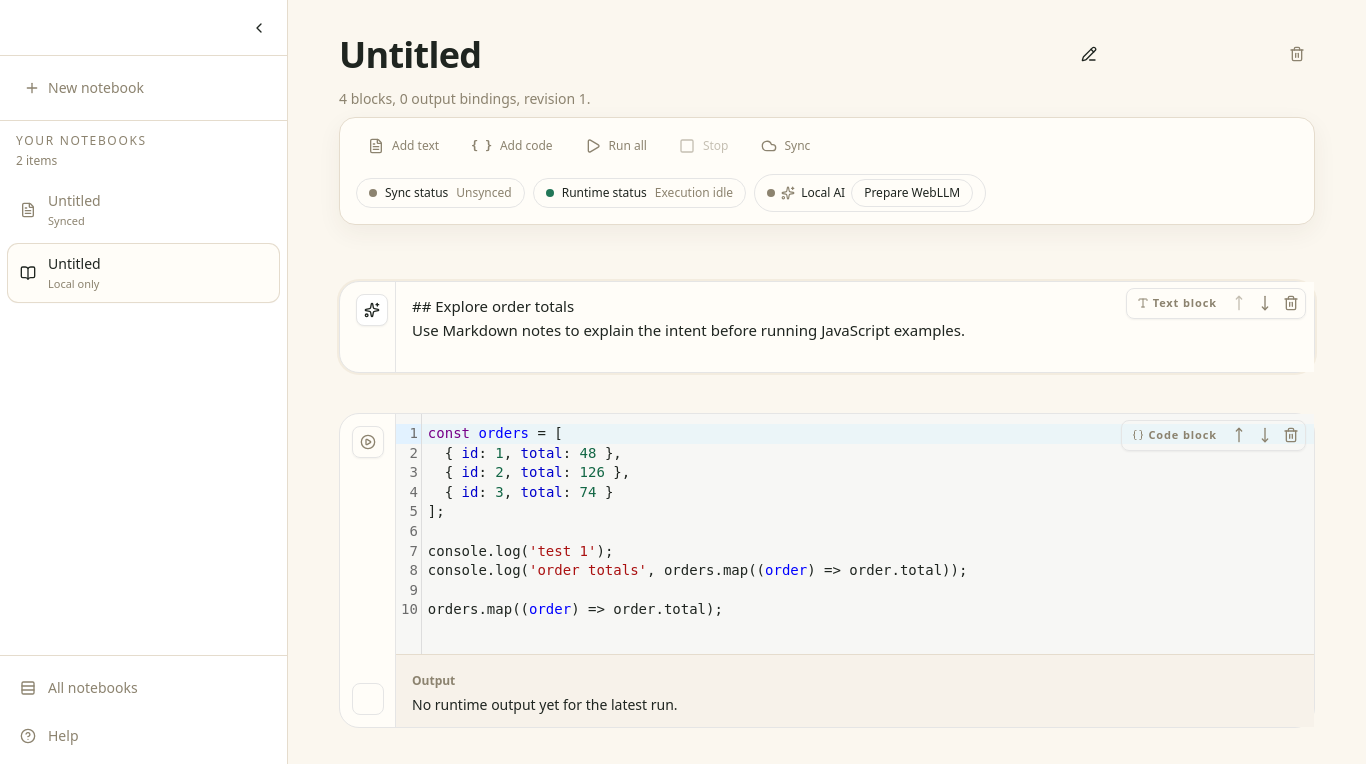
NotebookEditorPage › allows explicit local generation for an unsynced local notebook draft
Expected: the element named "Local AI status" shows "Local AI", [801,184,845,201]
Click the button "Prepare WebLLM": (912, 193) [851,179,973,207]
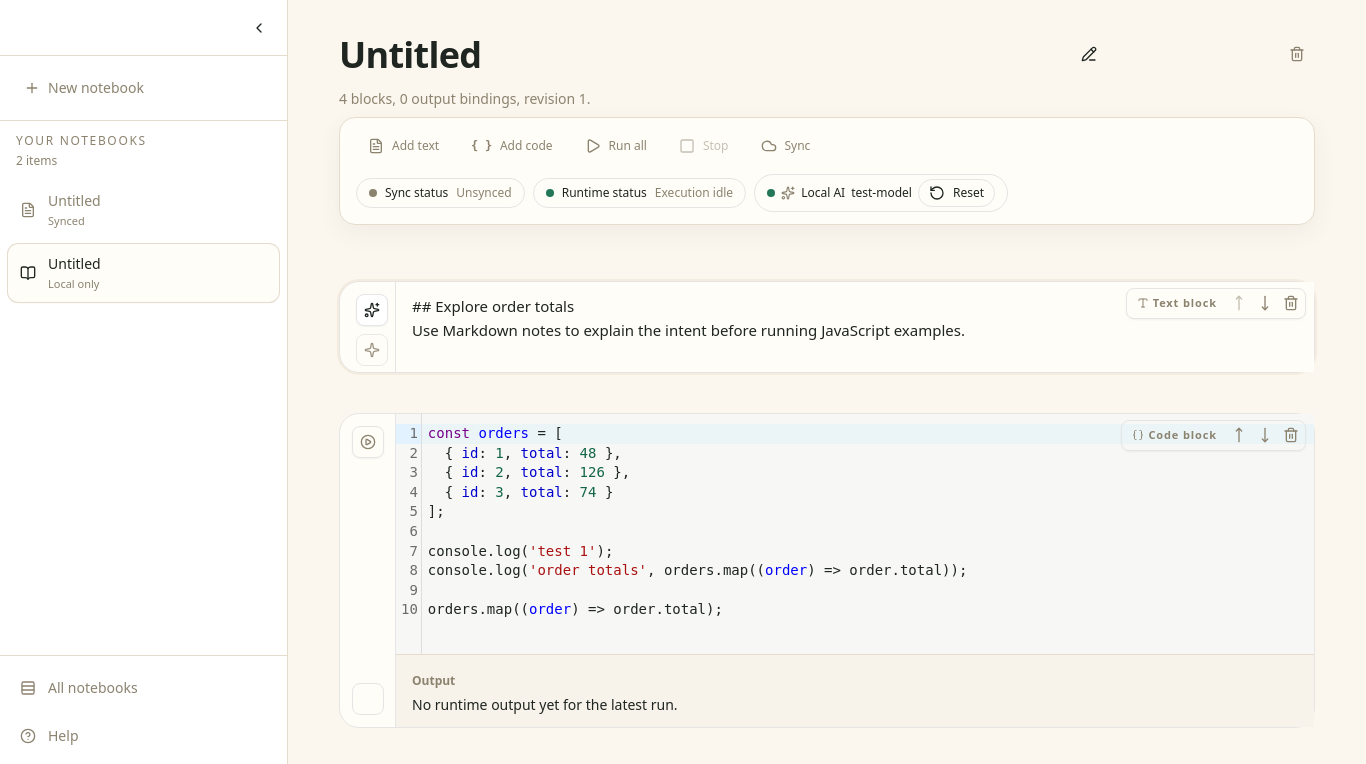
Now the text "test-model" is shown, box [851,185,912,201]
Now the element named "Local AI status" shows "test-model", box [851,184,912,201]
Click the button named "Generate code locally from blk_intro": (372, 350) [356,334,388,366]
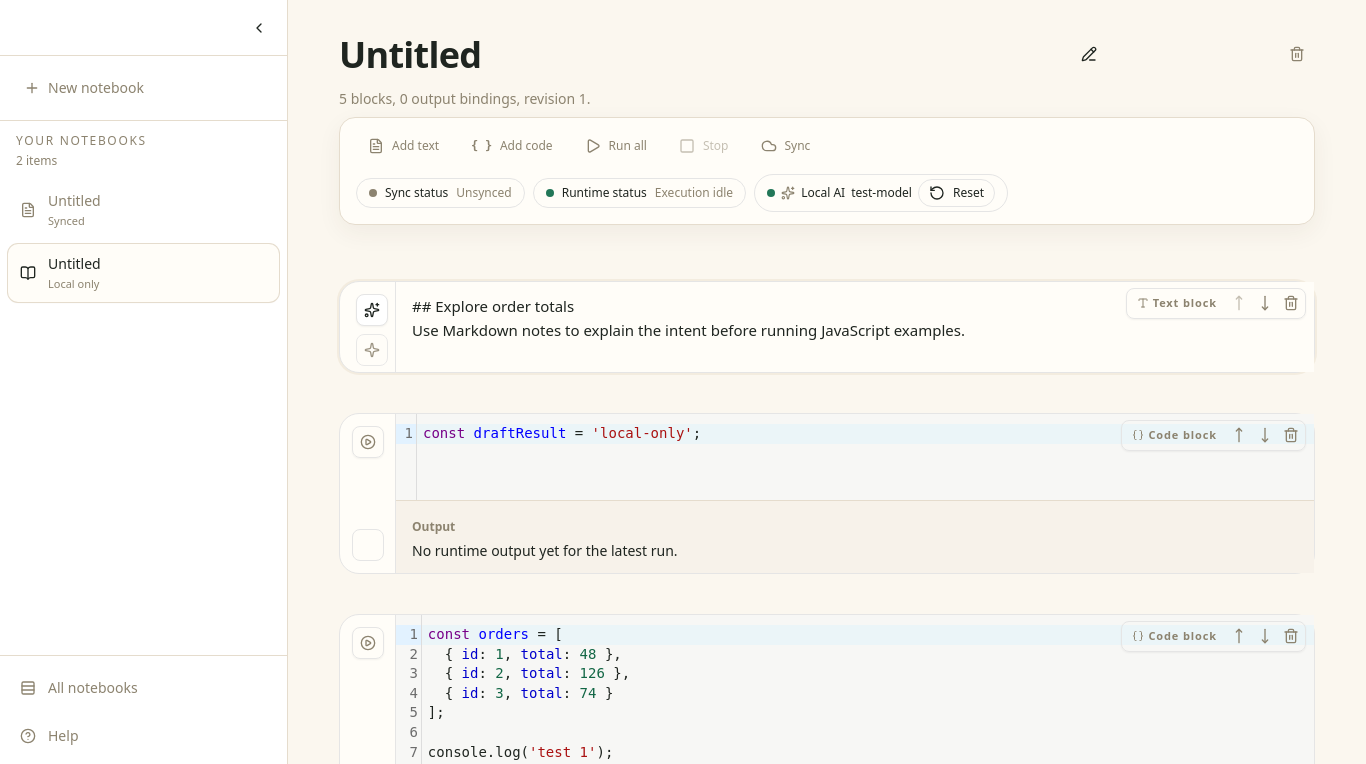
Now the element named "Run blk_new_code_1" is shown, box [339,413,1315,574]
Now the field labelled "const draftResult = 'local-only';" is shown, box [417,424,1314,444]
